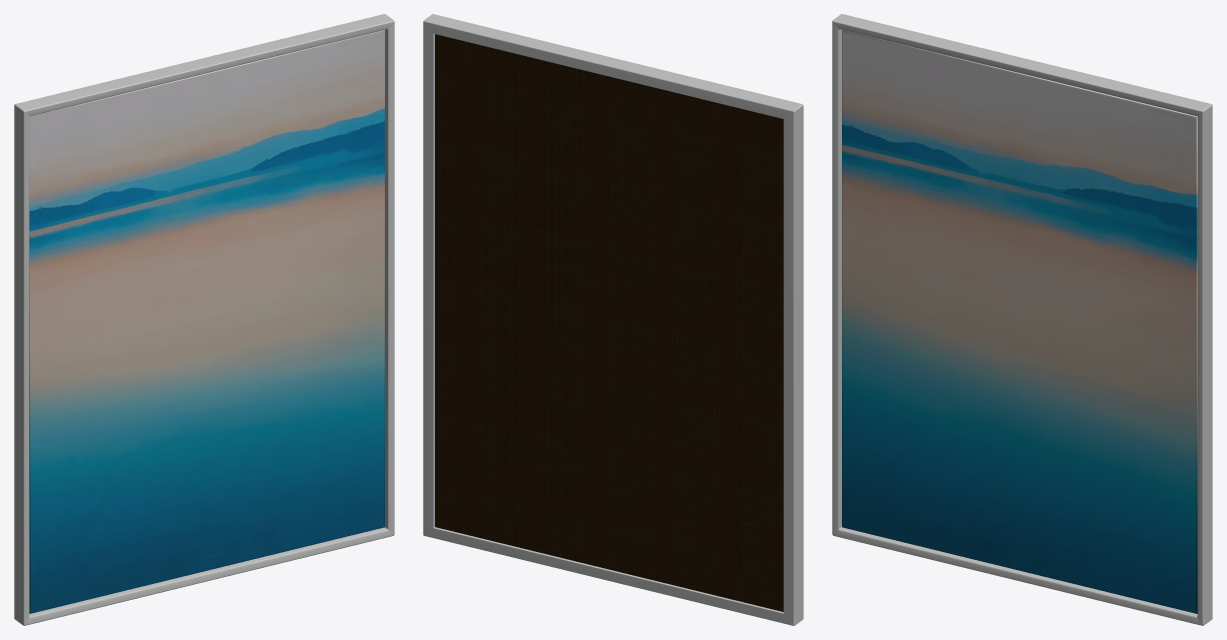
File: B073NZPNNL.glb
3 renders of one model, left to right at view 1: azimuth 30°, elevation 25°; view 2: azimuth 150°, elevation 25°; view 3: azimuth 330°, elevation 25°, orthographic.
Visible parts, largest first — view 1: RootNode; view 2: RootNode; view 3: RootNode.
Boxes of the visible parts, x1,y1,x2,y2 form: RootNode: (14, 14, 394, 625); RootNode: (423, 14, 803, 625); RootNode: (832, 14, 1212, 625).
Size of the model in its own units: 0.8009 by 1.06 by 0.0372.
1 material, 1 textured.
